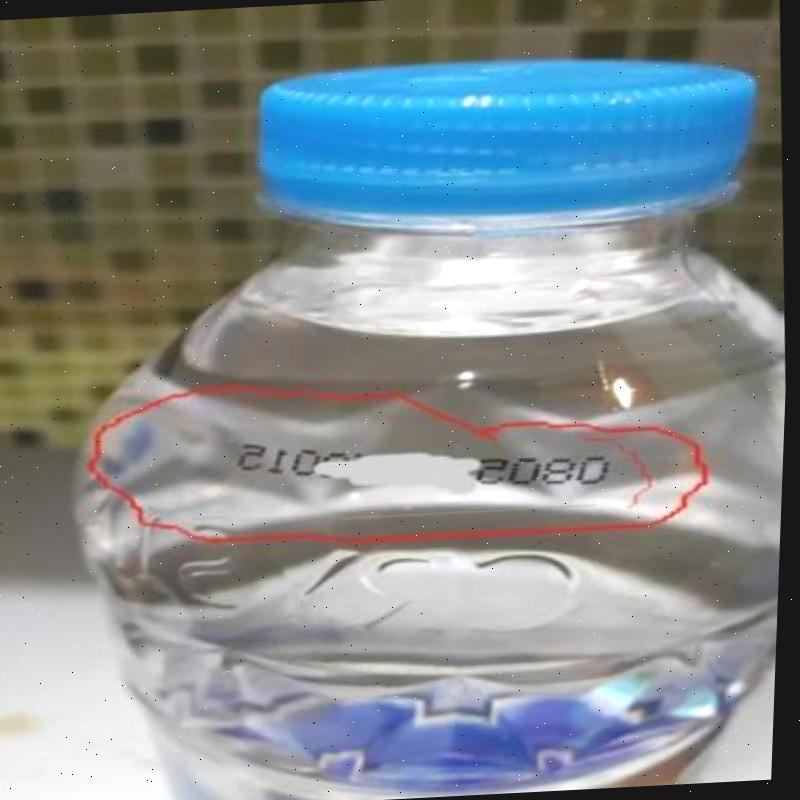botella: (47, 41, 799, 800)
